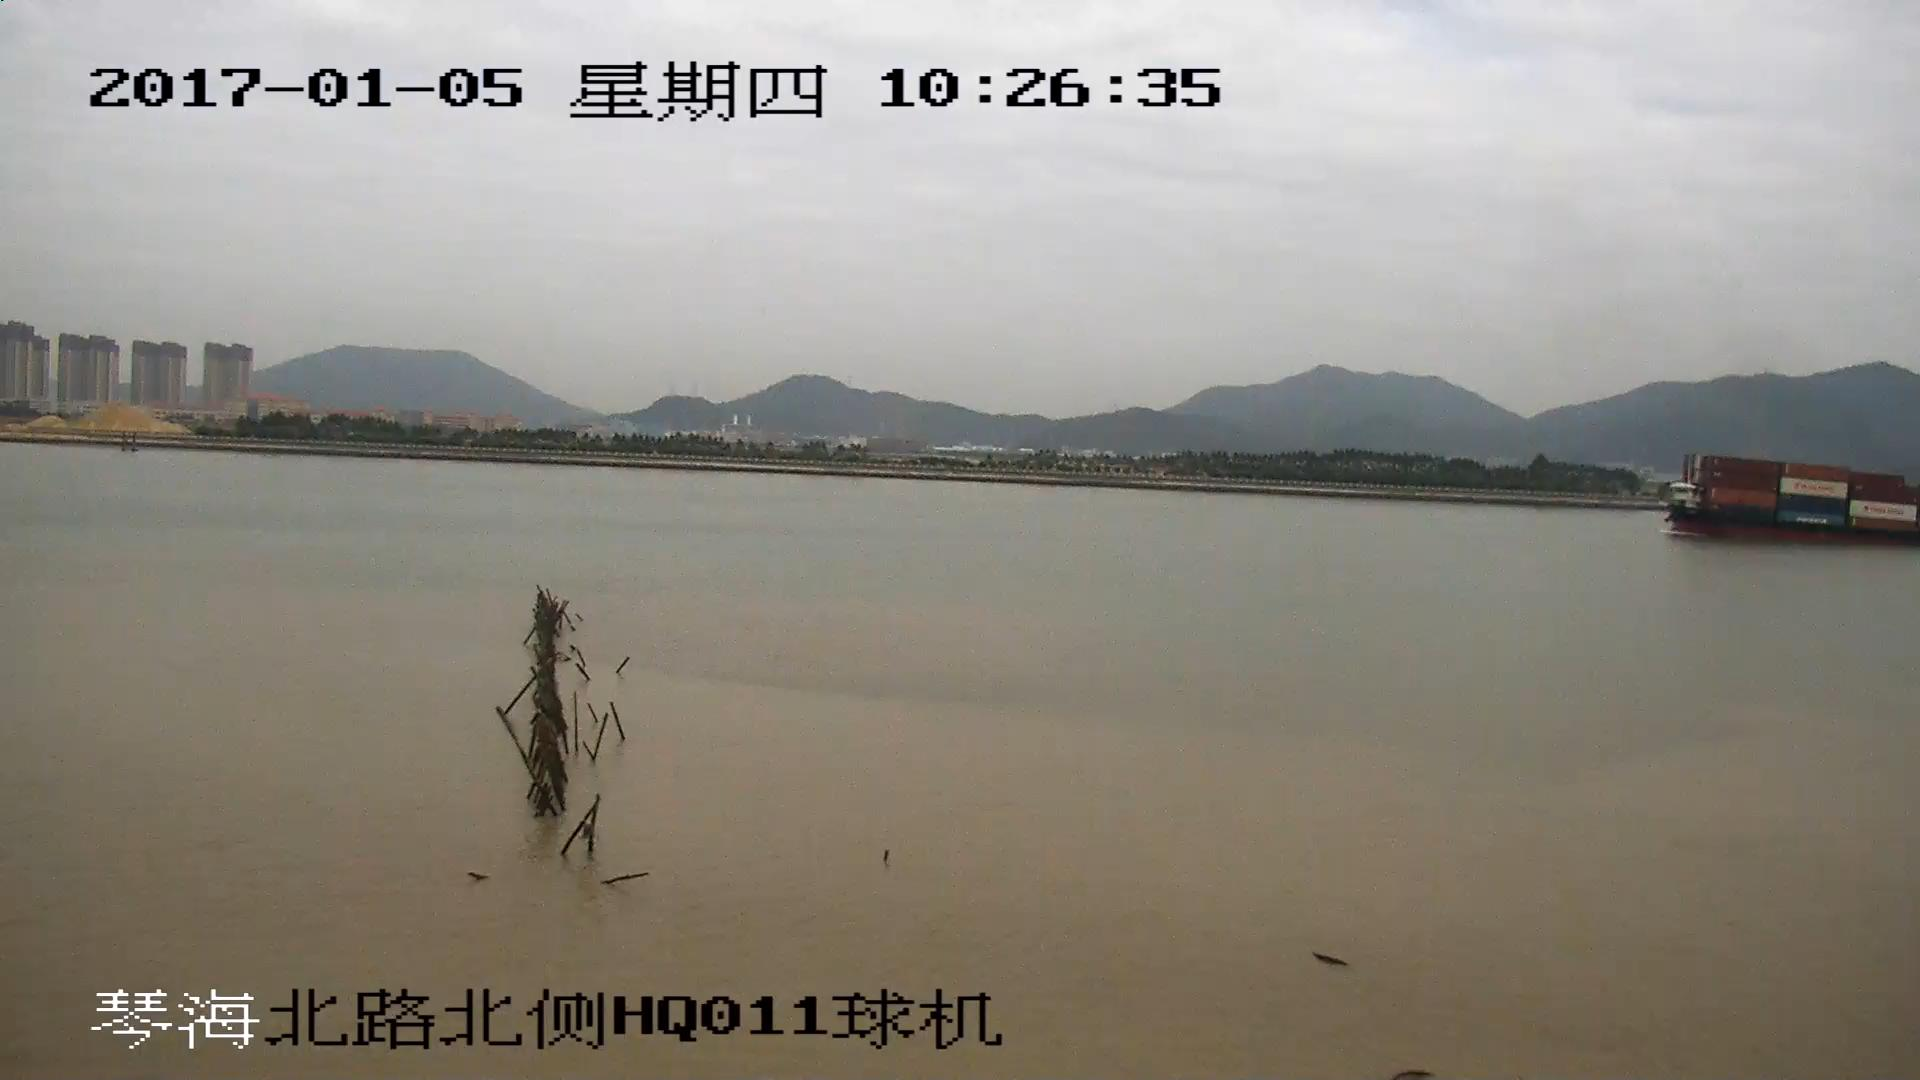container ship: (1667, 457, 1920, 539)
